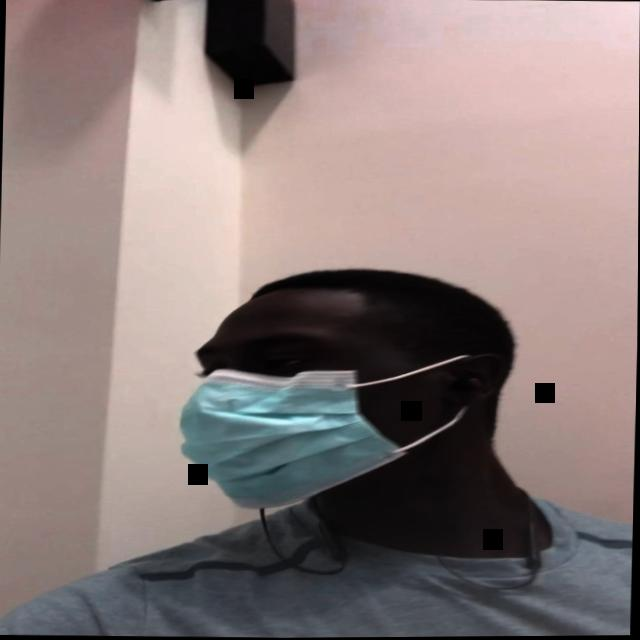Mask: (173, 295, 473, 514)
